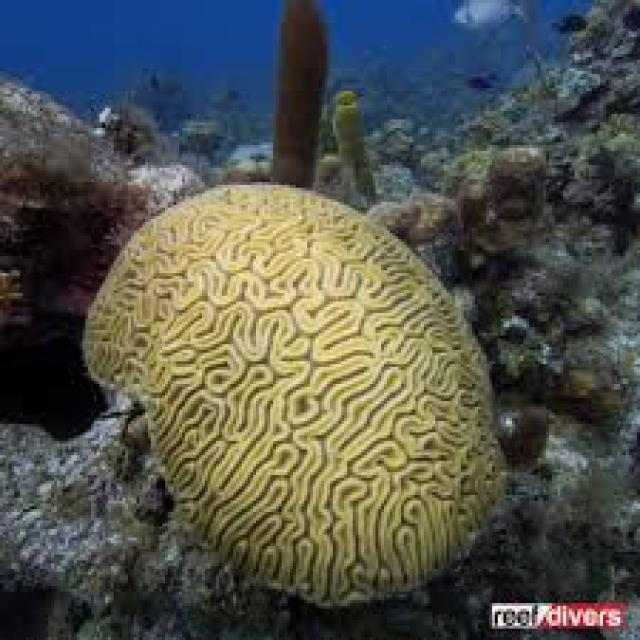Coral: (80, 184, 510, 608)
